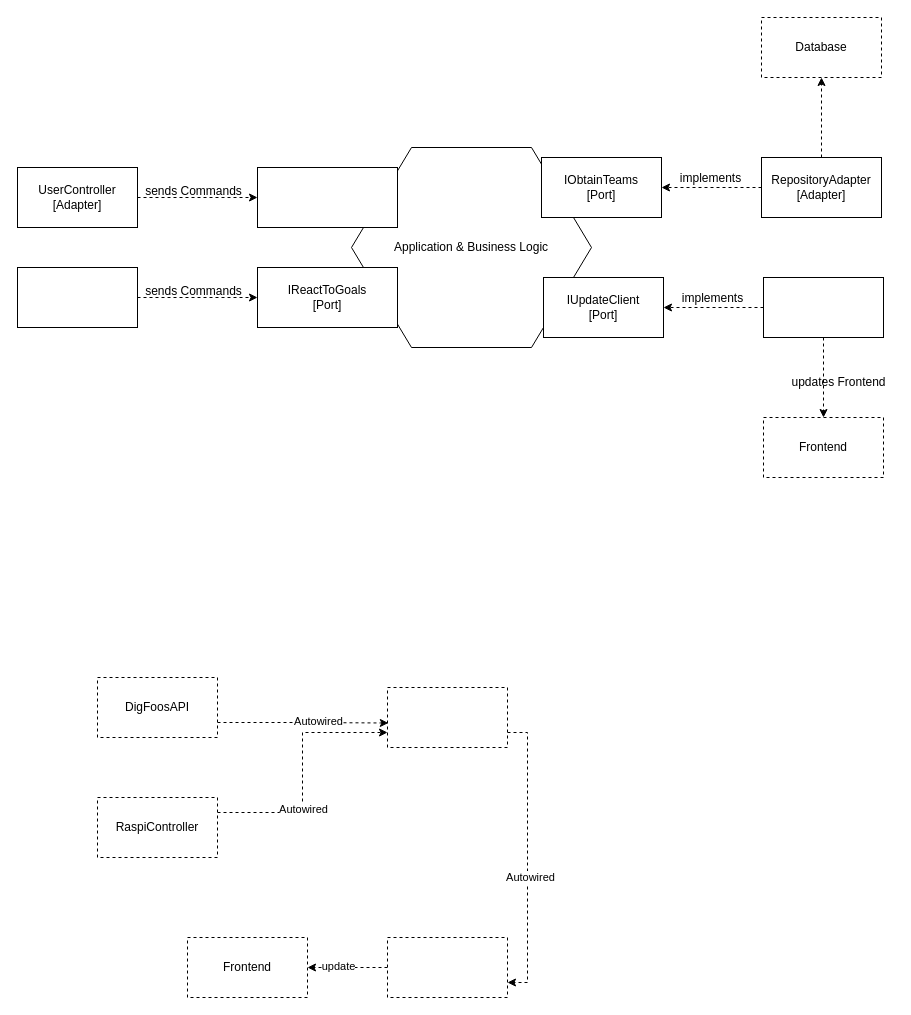
Some shapes in this 911 by 1015 pixel diagram are drawn without their labels. Each missing label, with the centre of its shape:
GameManager: (x=447, y=717)
HardwareController [Adapter]: (x=77, y=297)
IReactToUserCommands [Port]: (x=327, y=197)
Publisher: (x=447, y=967)
Publisher [Adapter]: (x=823, y=307)
